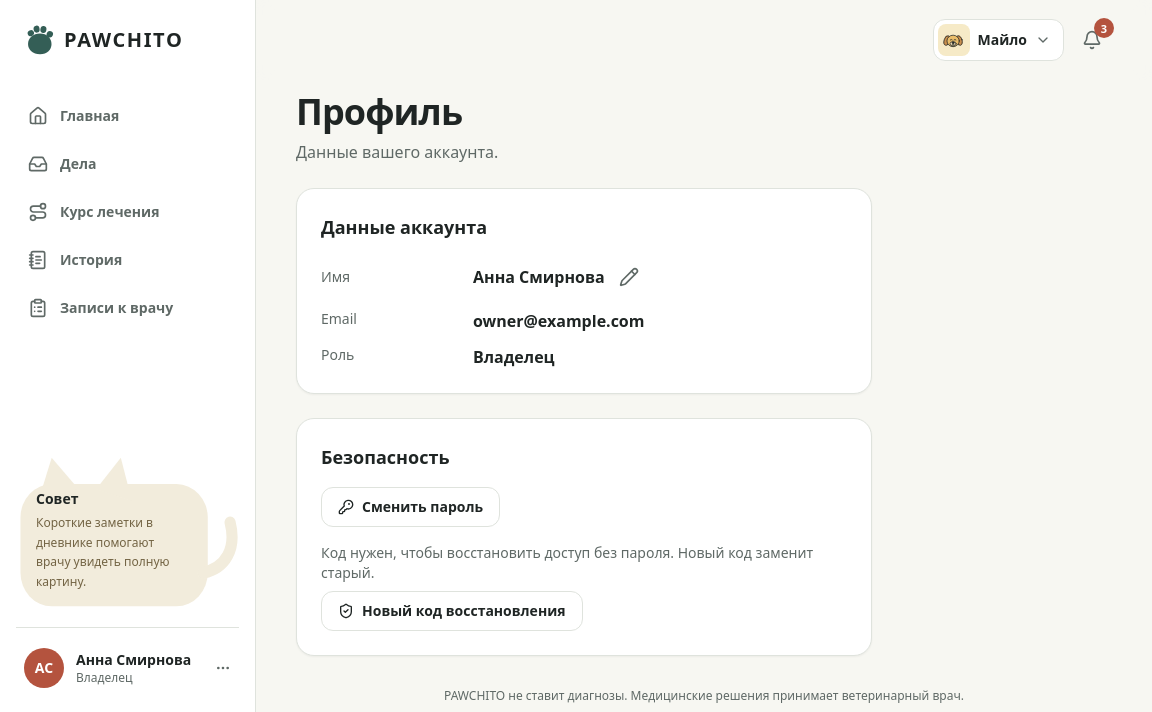
Test: ProfilePage › имя сохраняется и сразу видно в меню пользователя
Click the button named "Изменить имя".
click(629, 277)  # box [609, 257, 649, 297]
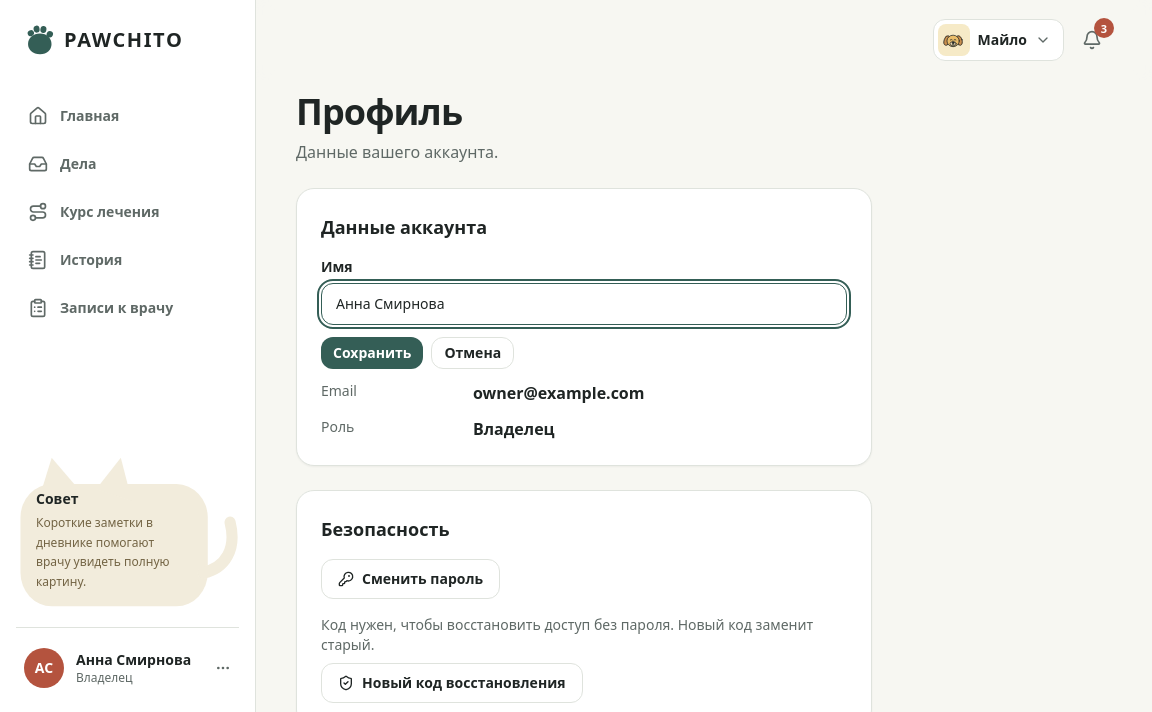
Replace the text in the field labelled "Имя" with "Анна Иванова" at [584, 304], box [321, 283, 847, 325]
Then press Enter
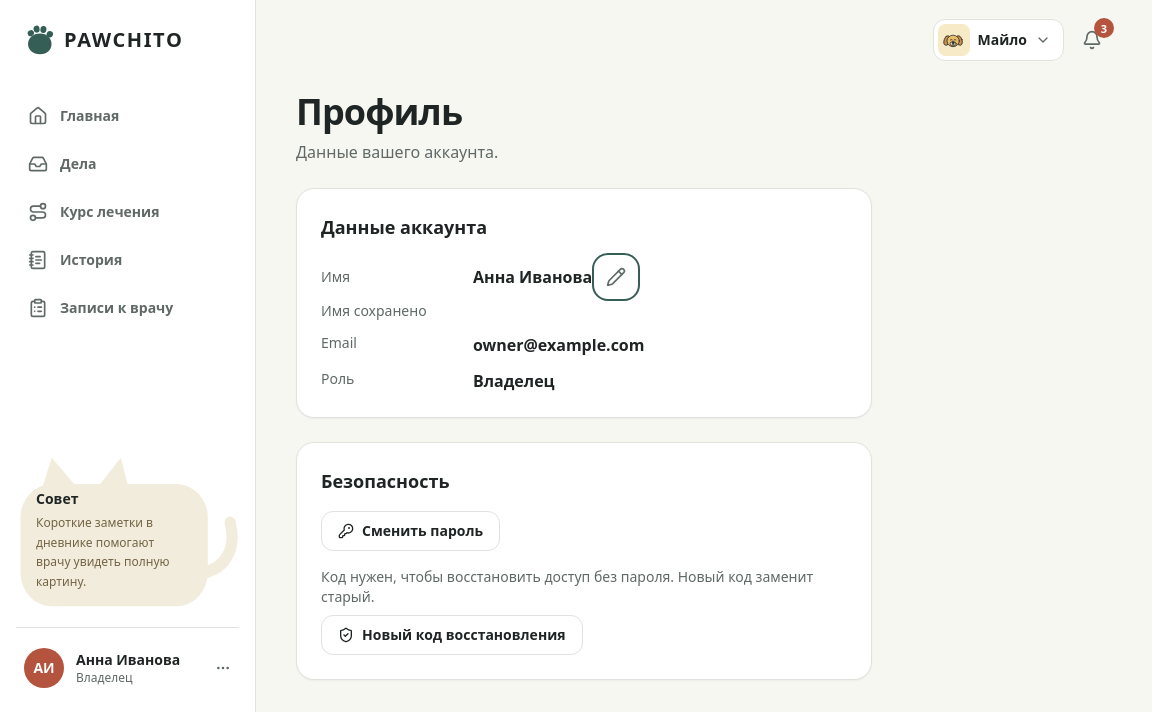
Result: the text "Имя сохранено" is shown at [321, 301, 427, 320]
Result: the button "Анна Иванова" is shown at [16, 640, 239, 696]
